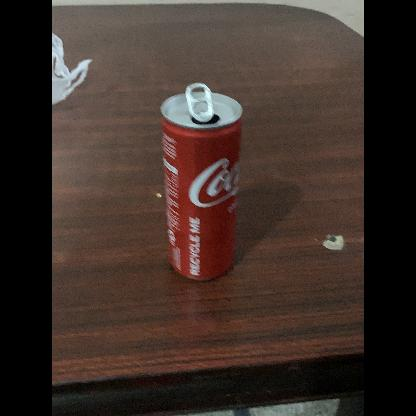Lid_Open: (180, 81, 226, 130)
Tin_Can: (159, 78, 247, 289)
